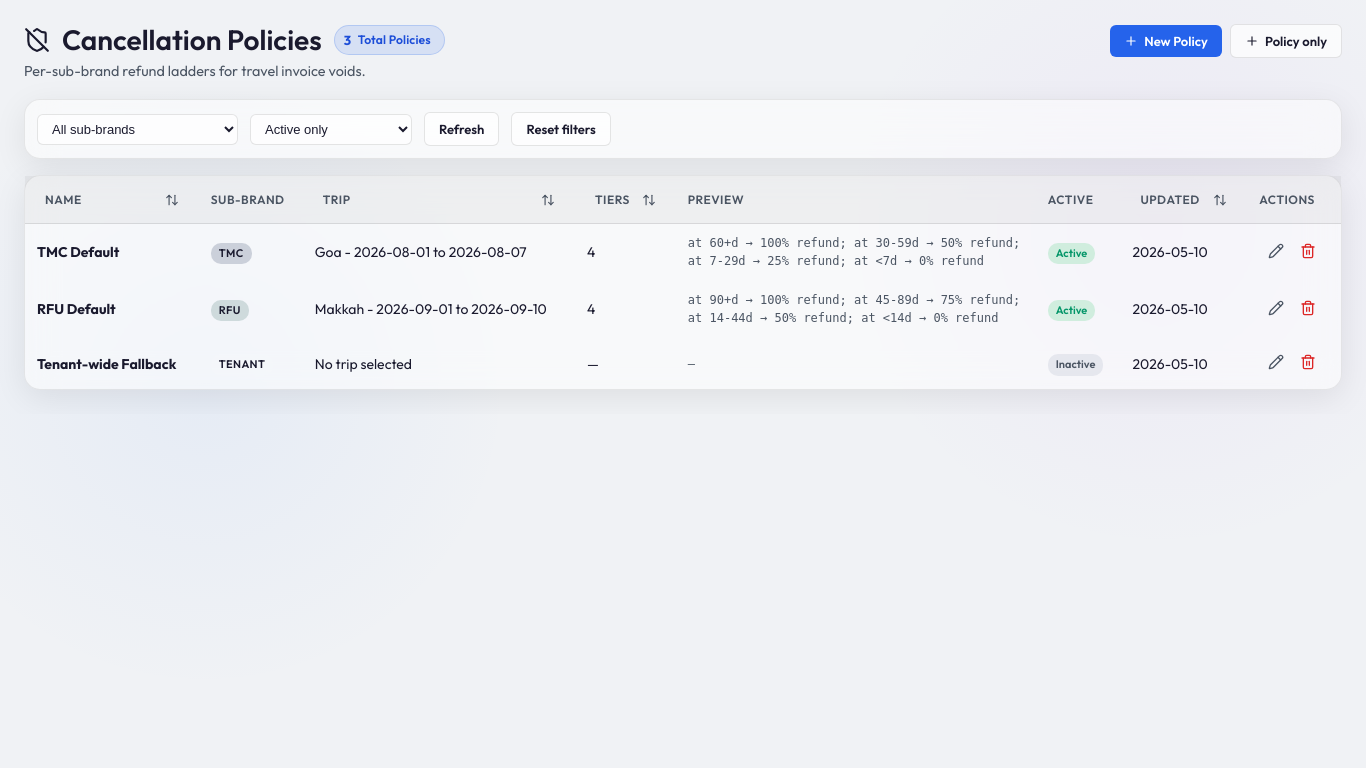
Test: <CancellationPolicies /> — edit + delete flows › Edit icon opens the form pre-filled with the row fields
expect the text "TMC Default" is shown: met, box [37,243,119,261]
Click the button named "Edit policy TMC Default" at [1276, 252], box [1262,237,1290,268]
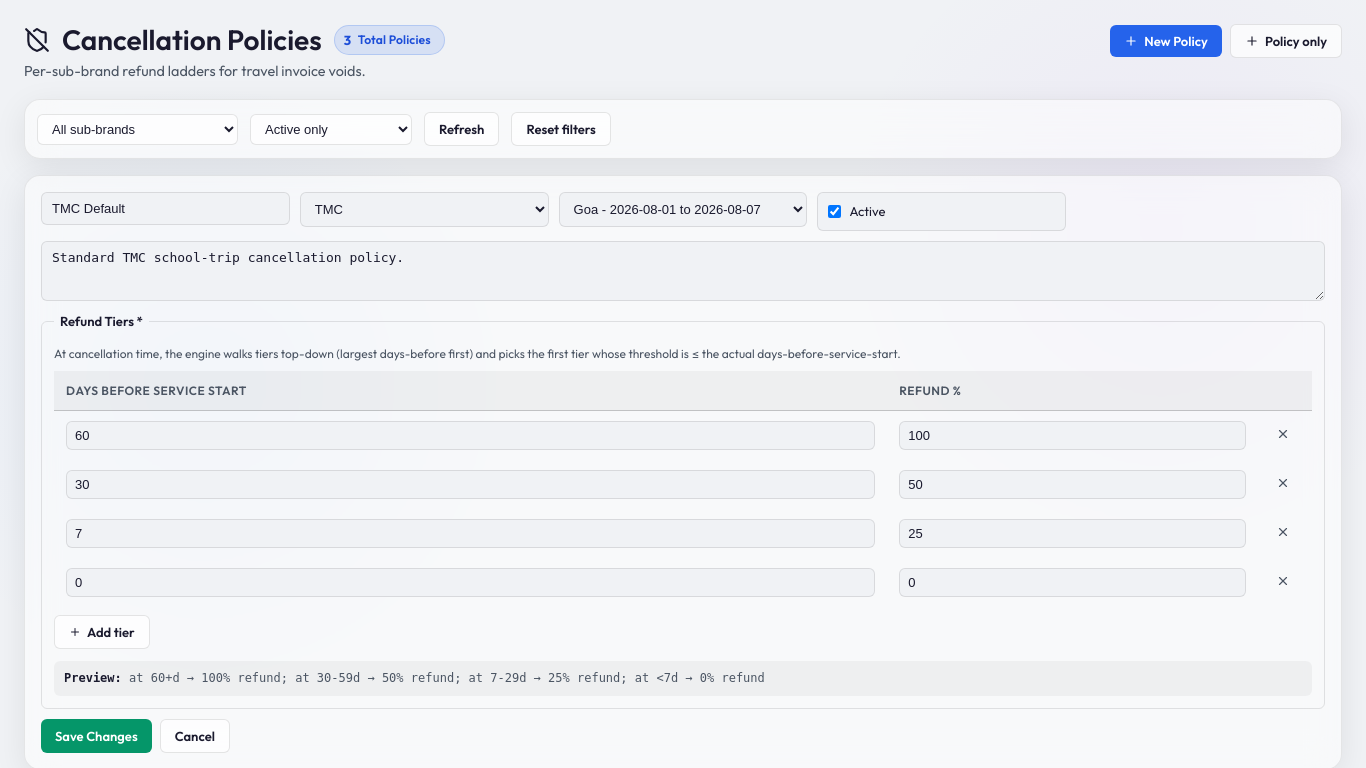
expect the field named "Policy name" holds "TMC Default": met, box [41,192,290,225]
expect the button "Save Changes" is shown: met, box [41,719,152,753]
